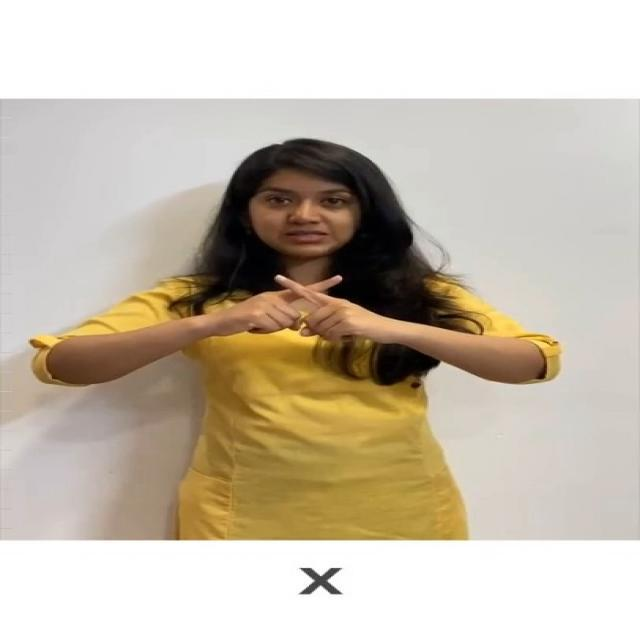X: (208, 267, 402, 351)
